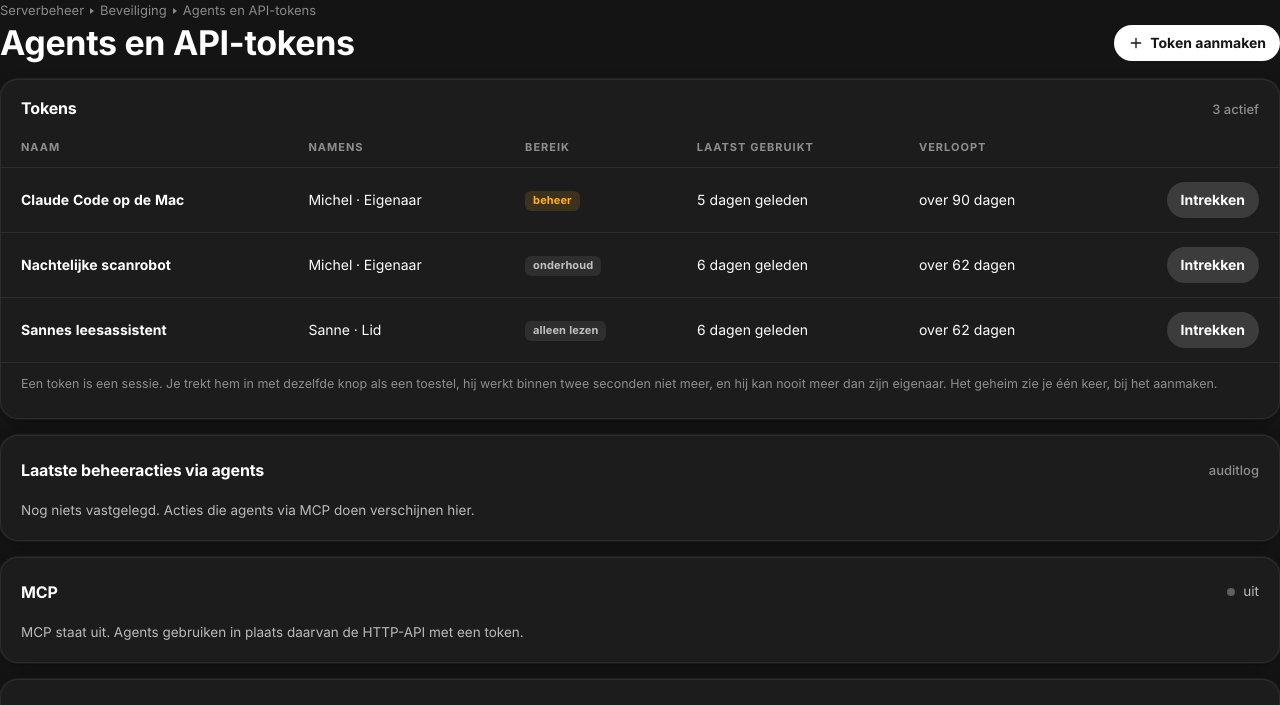
scherm 34, intrekken › laat de lijst intact bij een serverweigering en biedt opnieuw laden
Click the button with aria-label "Sannes leesassistent intrekken" at (1213, 330), box 1166,312 -> 1259,348
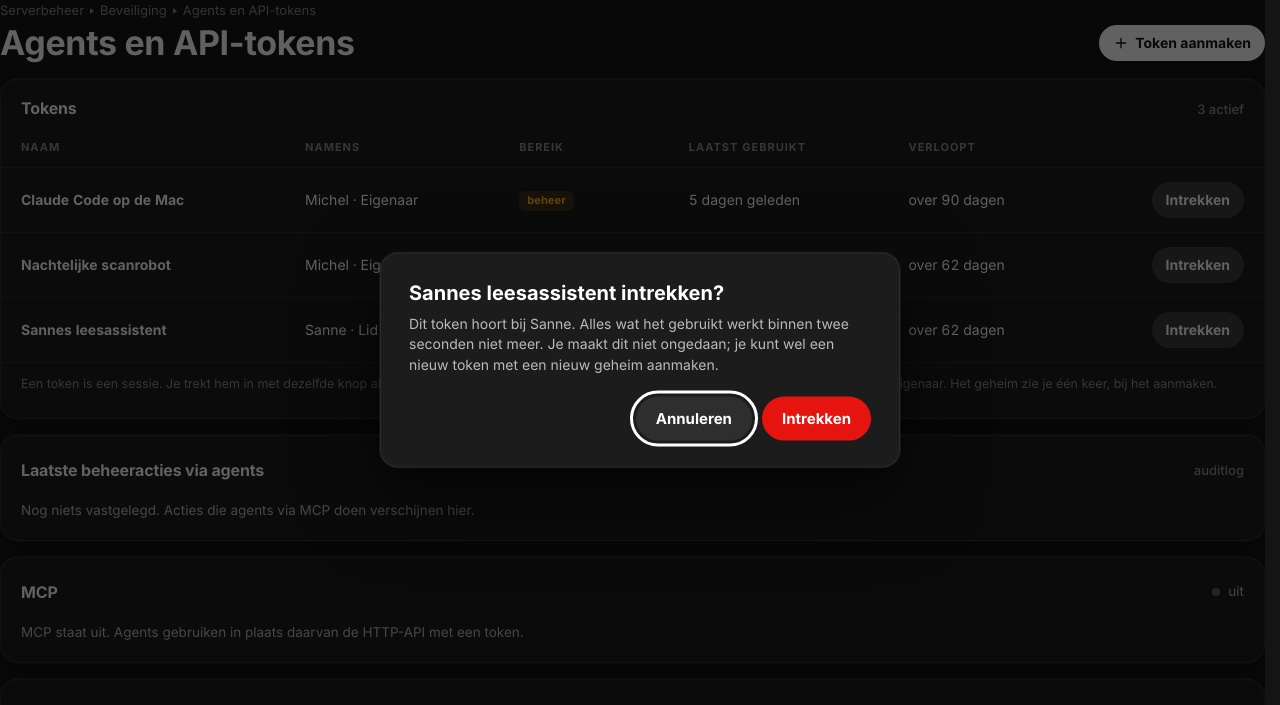
Click the button "Intrekken" at (816, 418), box 762,396 -> 871,440
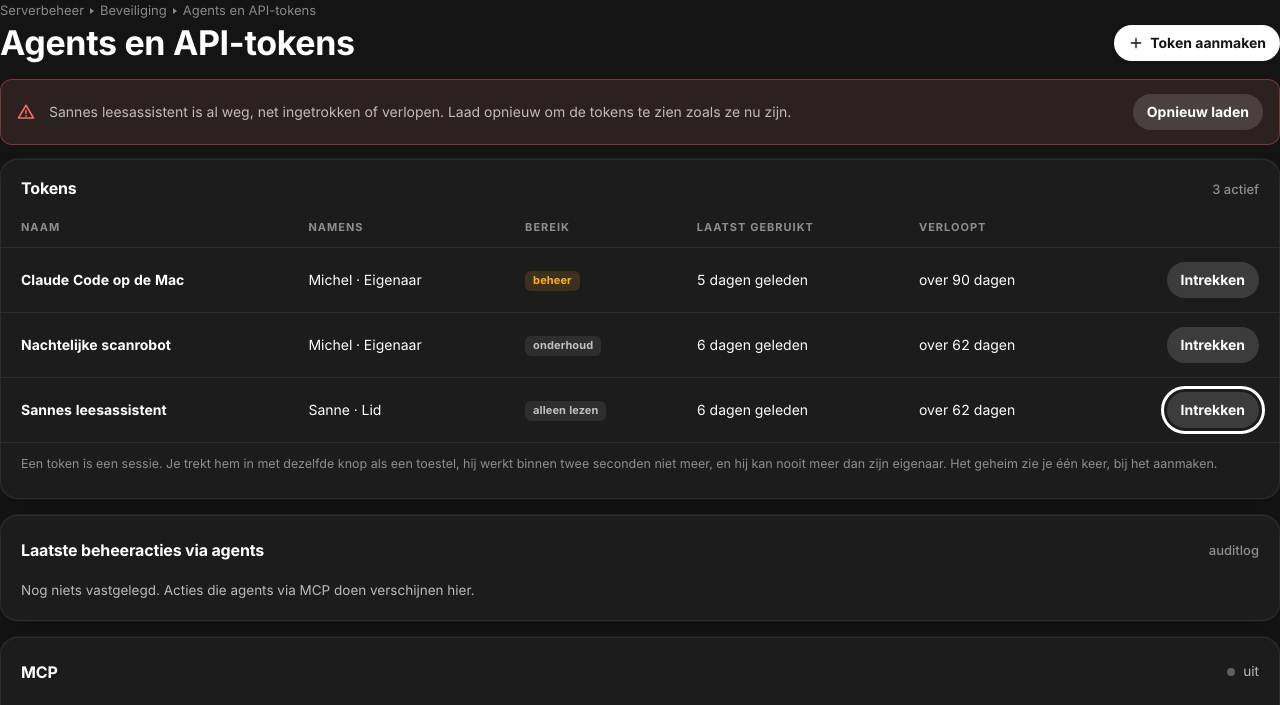
Check: the row "Sannes leesassistent" is shown, box 1,378 -> 1279,442
Check: the message shows "Sannes leesassistent is al weg", box 49,103 -> 791,120
Check: the button "Opnieuw laden" is shown, box 1133,94 -> 1263,130
